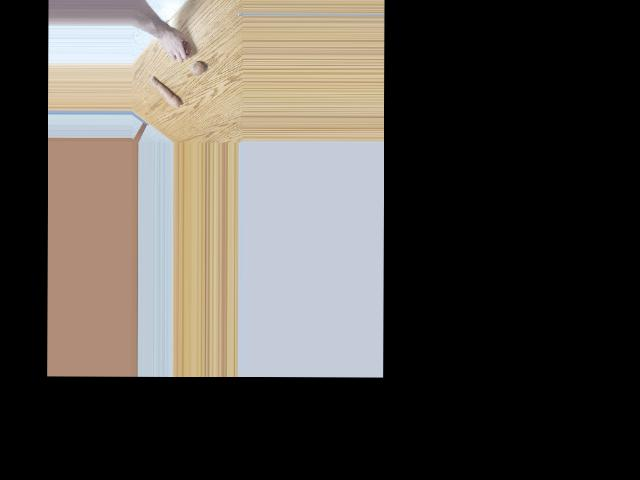onion: (175, 39, 190, 55)
